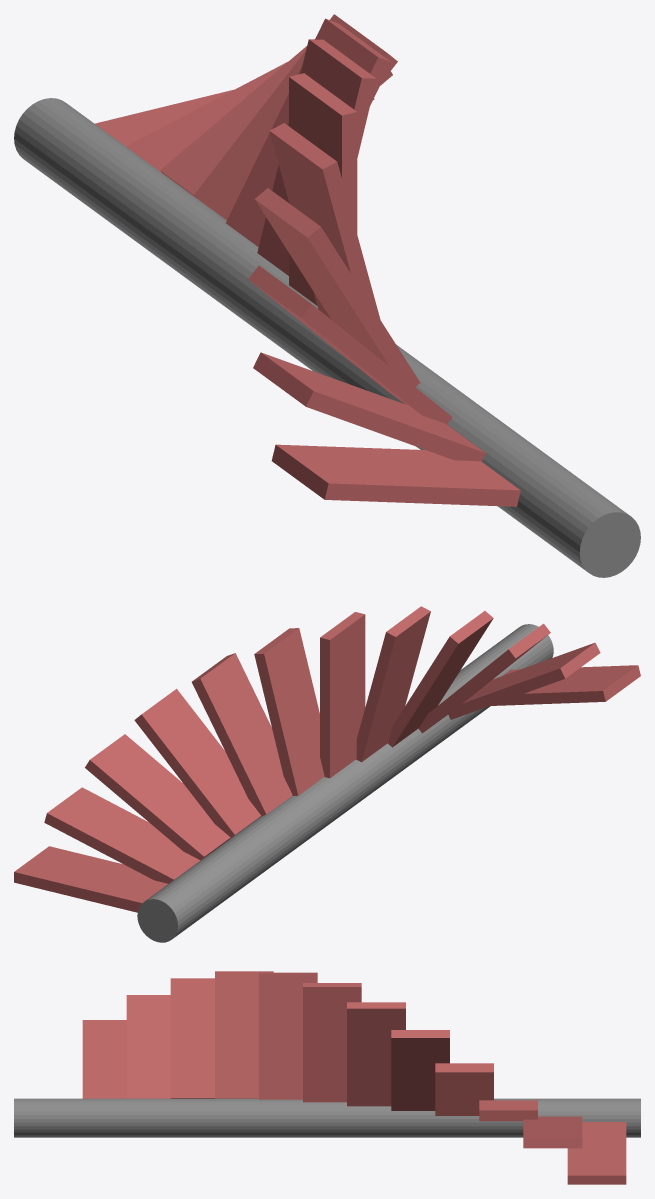
The model's file is spiral_stair_test.glb.
3 renders of one model, top to bottom at view 1: azimuth 30°, elevation 25°; view 2: azimuth 150°, elevation 25°; view 3: azimuth 270°, elevation 25°, orthographic. The views are drawn at different scales.
Parts seen in each view (by area): view 1: Center_Pole_01, Tread_12, Tread_09, Tread_11, Tread_08, Tread_07, Tread_10, Tread_05, Tread_04, Tread_06, Tread_03, Tread_02 (+1 smaller); view 2: Center_Pole_01, Tread_04, Tread_05, Tread_03, Tread_06, Tread_02, Tread_07, Tread_01, Tread_08, Tread_09, Tread_11, Tread_12 (+1 smaller); view 3: Center_Pole_01, Tread_08, Tread_09, Tread_07, Tread_10, Tread_06, Tread_11, Tread_05, Tread_12, Tread_01, Tread_04, Tread_02 (+1 smaller).
Boxes of the visible parts, x1,y1,x2,y2 form: Center_Pole_01: (14, 98, 640, 577); Tread_12: (271, 444, 520, 506); Tread_09: (255, 188, 420, 386); Tread_11: (253, 352, 485, 461); Tread_08: (269, 123, 380, 319); Tread_07: (289, 73, 357, 305); Tread_10: (248, 265, 452, 424); Tread_05: (226, 18, 391, 246); Tread_04: (193, 14, 397, 220); Tread_06: (257, 39, 376, 275); Tread_03: (160, 46, 392, 198); Tread_02: (126, 62, 374, 171); Center_Pole_01: (137, 624, 553, 942); Tread_04: (134, 688, 261, 838); Tread_05: (192, 653, 292, 816); Tread_03: (85, 734, 230, 860); Tread_06: (254, 628, 324, 795); Tread_02: (44, 787, 200, 883); Tread_07: (320, 612, 365, 778); Tread_01: (14, 846, 167, 912); Tread_08: (356, 606, 430, 762); Tread_09: (388, 611, 493, 747); Tread_11: (448, 642, 600, 719); Tread_12: (490, 665, 640, 705); Center_Pole_01: (14, 1098, 640, 1137); Tread_08: (259, 972, 317, 1099); Tread_09: (215, 971, 273, 1098); Tread_07: (303, 983, 361, 1102); Tread_10: (170, 978, 214, 1098); Tread_06: (347, 1002, 405, 1106); Tread_11: (126, 995, 170, 1098); Tread_05: (391, 1030, 449, 1110); Tread_12: (82, 1020, 126, 1098); Tread_01: (567, 1122, 626, 1184); Tread_04: (435, 1063, 493, 1115); Tread_02: (523, 1116, 582, 1148).
Size of the model in its own units: 59.24 by 34 by 128.
